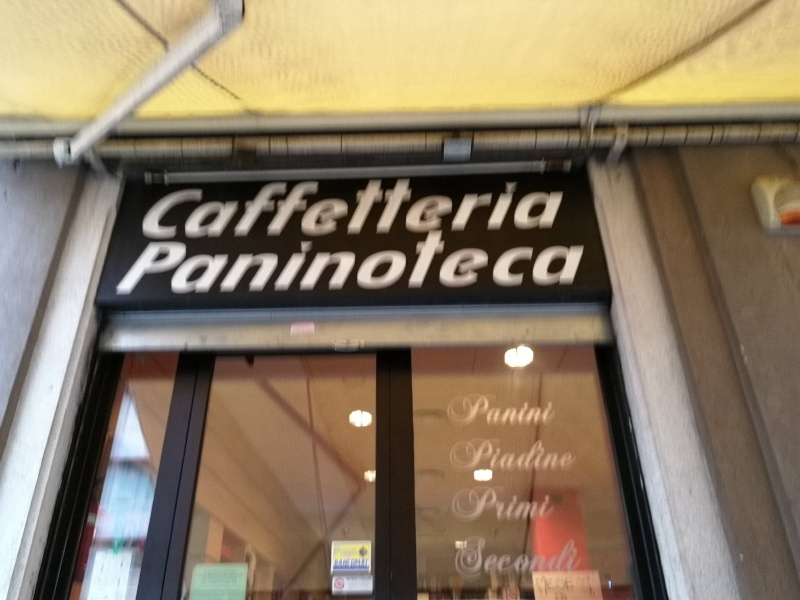text: (145, 225, 160, 299), (161, 225, 176, 299), (177, 225, 192, 299), (193, 225, 208, 299), (209, 225, 224, 299), (225, 225, 240, 299), (241, 225, 256, 299), (257, 225, 272, 299), (273, 225, 288, 299), (289, 225, 304, 299), (305, 225, 320, 299), (321, 225, 336, 299), (337, 225, 352, 299), (353, 225, 368, 299), (369, 225, 384, 299), (385, 225, 400, 299), (401, 225, 416, 299), (417, 225, 432, 299), (433, 225, 448, 299), (449, 225, 464, 299), (465, 225, 480, 299), (481, 225, 496, 299), (497, 225, 512, 299), (513, 225, 528, 299), (529, 225, 544, 299), (545, 225, 560, 299), (561, 225, 576, 299), (577, 225, 592, 299), (145, 176, 160, 243), (161, 176, 176, 243), (177, 176, 192, 243), (193, 176, 208, 243), (209, 176, 224, 243), (225, 176, 240, 243), (241, 176, 256, 243), (257, 176, 272, 243), (273, 176, 288, 243), (289, 176, 304, 243), (305, 176, 320, 243), (321, 176, 336, 243), (337, 176, 352, 243), (353, 176, 368, 243), (369, 176, 384, 243), (385, 176, 400, 243), (401, 176, 416, 243), (417, 176, 432, 243), (433, 176, 448, 243), (449, 176, 464, 243), (465, 176, 480, 243), (481, 176, 496, 243), (497, 176, 512, 243), (513, 176, 528, 243), (529, 176, 544, 243), (545, 176, 560, 243), (134, 225, 144, 299), (561, 176, 572, 243), (465, 535, 480, 584), (481, 535, 496, 584), (497, 535, 512, 584), (513, 535, 528, 584), (529, 535, 544, 584), (545, 535, 560, 584), (561, 535, 576, 584), (465, 485, 480, 526), (481, 485, 496, 526), (497, 485, 512, 526), (513, 485, 528, 526), (529, 485, 544, 526), (449, 436, 464, 476), (465, 436, 480, 476), (481, 436, 496, 476), (497, 436, 512, 476), (513, 436, 528, 476), (529, 436, 544, 476), (545, 436, 560, 476), (561, 436, 576, 476), (449, 391, 464, 427), (465, 391, 480, 427), (481, 391, 496, 427), (497, 391, 512, 427), (513, 391, 528, 427), (529, 391, 544, 427), (545, 391, 560, 427), (453, 535, 464, 584), (545, 485, 558, 526), (452, 485, 464, 526), (577, 535, 584, 584), (593, 225, 597, 299), (337, 545, 352, 560), (337, 557, 352, 571), (353, 557, 368, 571), (141, 176, 144, 243), (601, 572, 608, 599), (353, 545, 359, 560), (446, 436, 448, 476), (577, 436, 579, 476), (446, 391, 448, 427), (334, 545, 336, 560), (334, 557, 336, 571), (369, 557, 370, 571)
